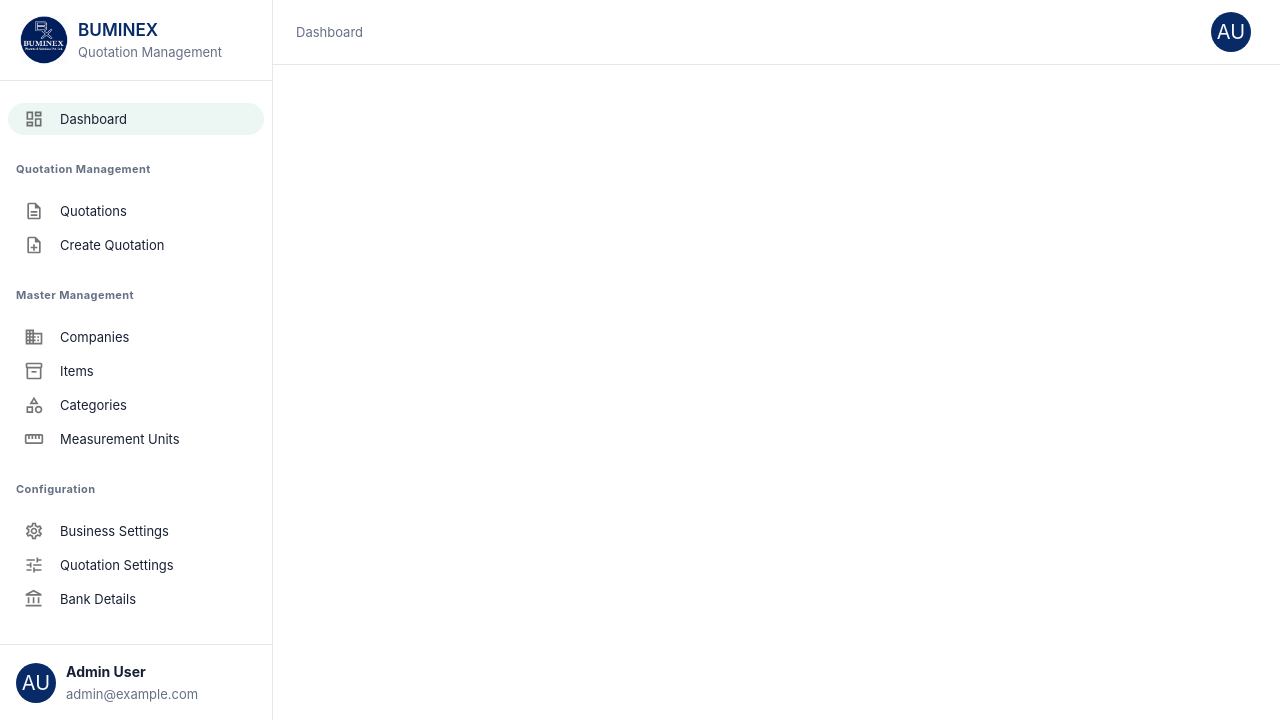
AppLayout › opens the profile menu with safe user details
Click the button with aria-label "open profile menu" at (1231, 32), box top-left (1206, 7), bottom-right (1256, 57)
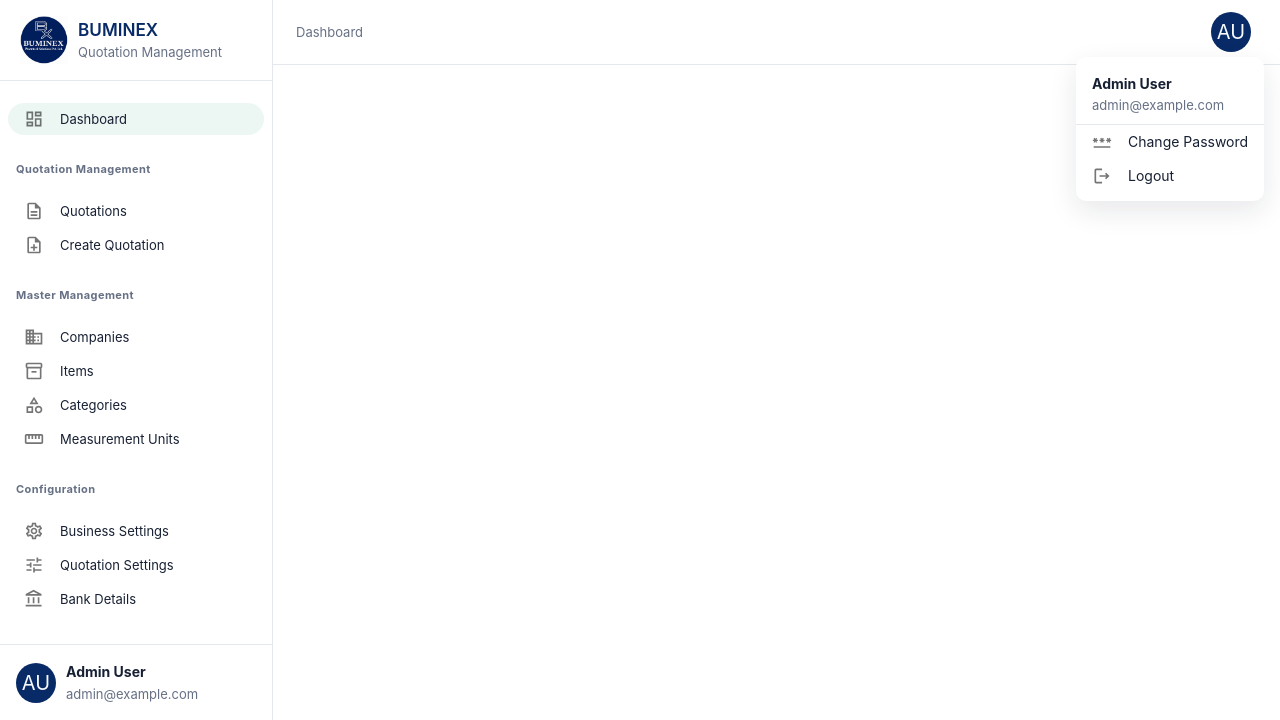
Expected: the text "Admin User" below "System" is shown, top-left (66, 664), bottom-right (146, 680)
Expected: the menu item "Change Password" is shown, top-left (1092, 132), bottom-right (1248, 152)
